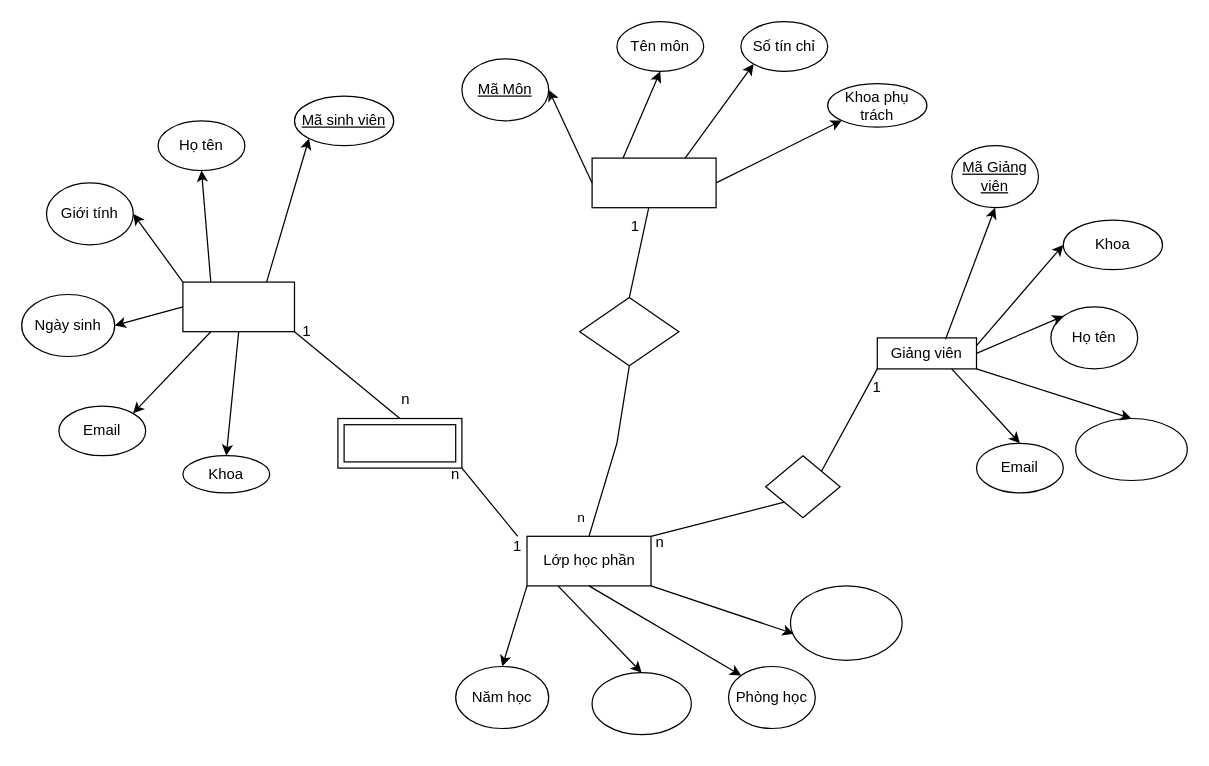
The diagram is 1209 pixels wide and 766 high, and some of its shapes have lost their labels. Here are the shapes that lost their labels. From the top down, the centre of each, then its label:
pixel 653 182: Môn Học
pixel 238 306: Sinh viên
pixel 628 331: thuộc
pixel 399 442: Đăng ký
pixel 1130 448: Học vị
pixel 802 486: có
pixel 845 622: Mã lớp học phần
pixel 641 703: Học kỳ
